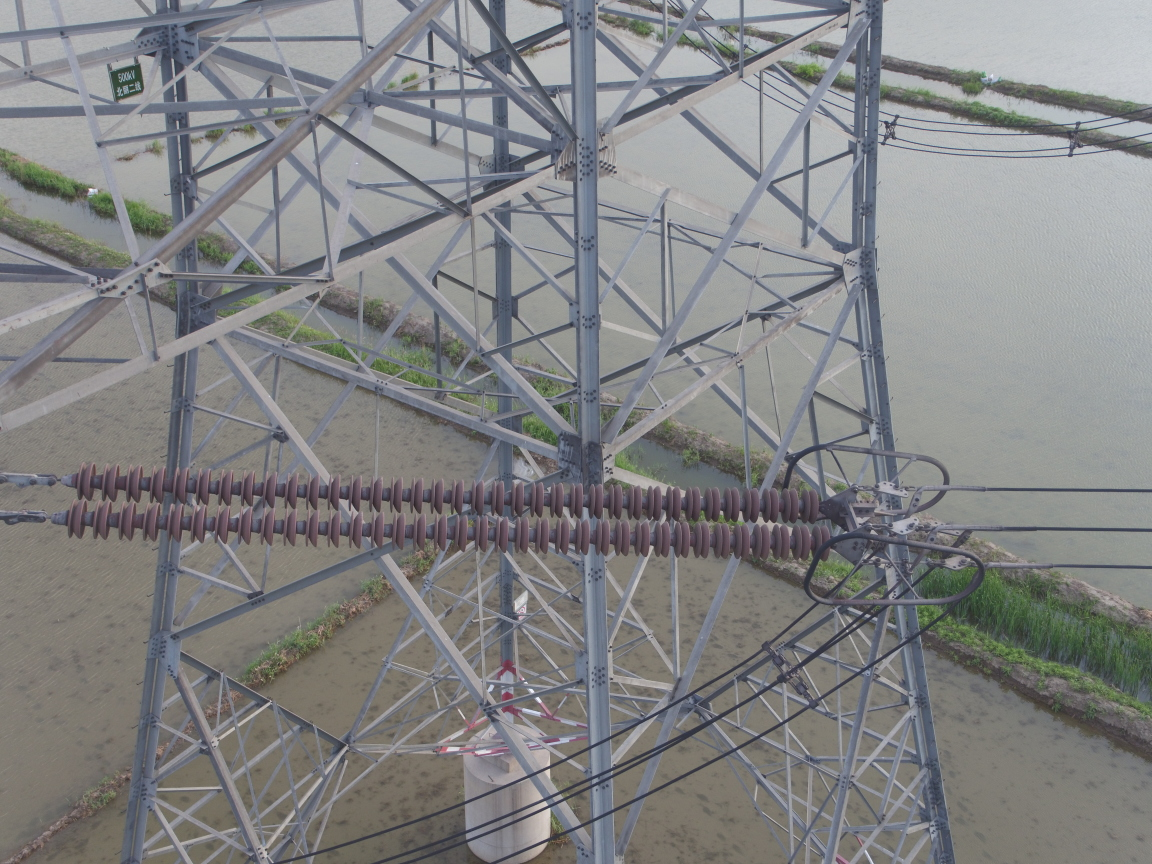insulator: (9, 456, 852, 563)
